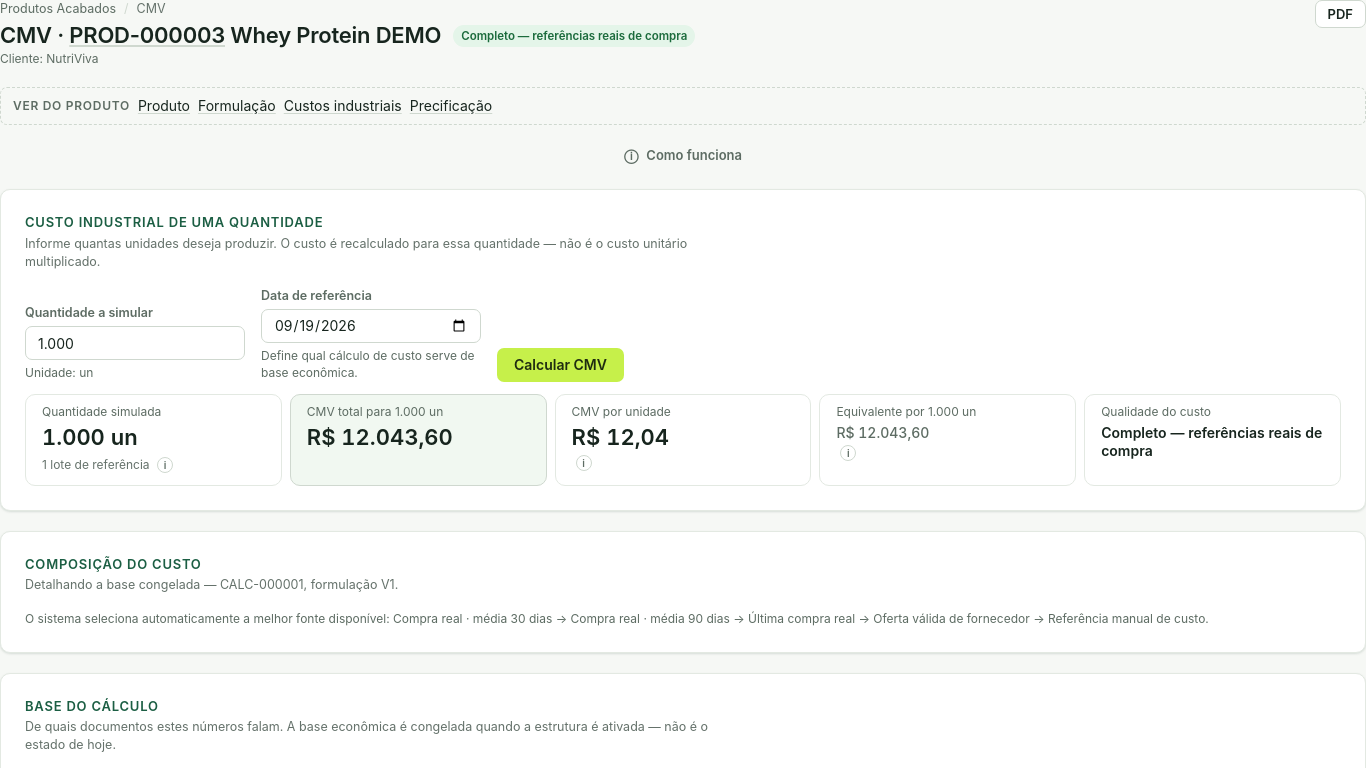
Scenario: Tela de CMV › erro de quantidade não faz a tela parecer outro produto
Check: the link "PROD-000003" is shown, box [69, 22, 225, 48]
Replace the text in the field labelled "Quantidade a simular" with "0": (135, 343) [25, 326, 245, 360]
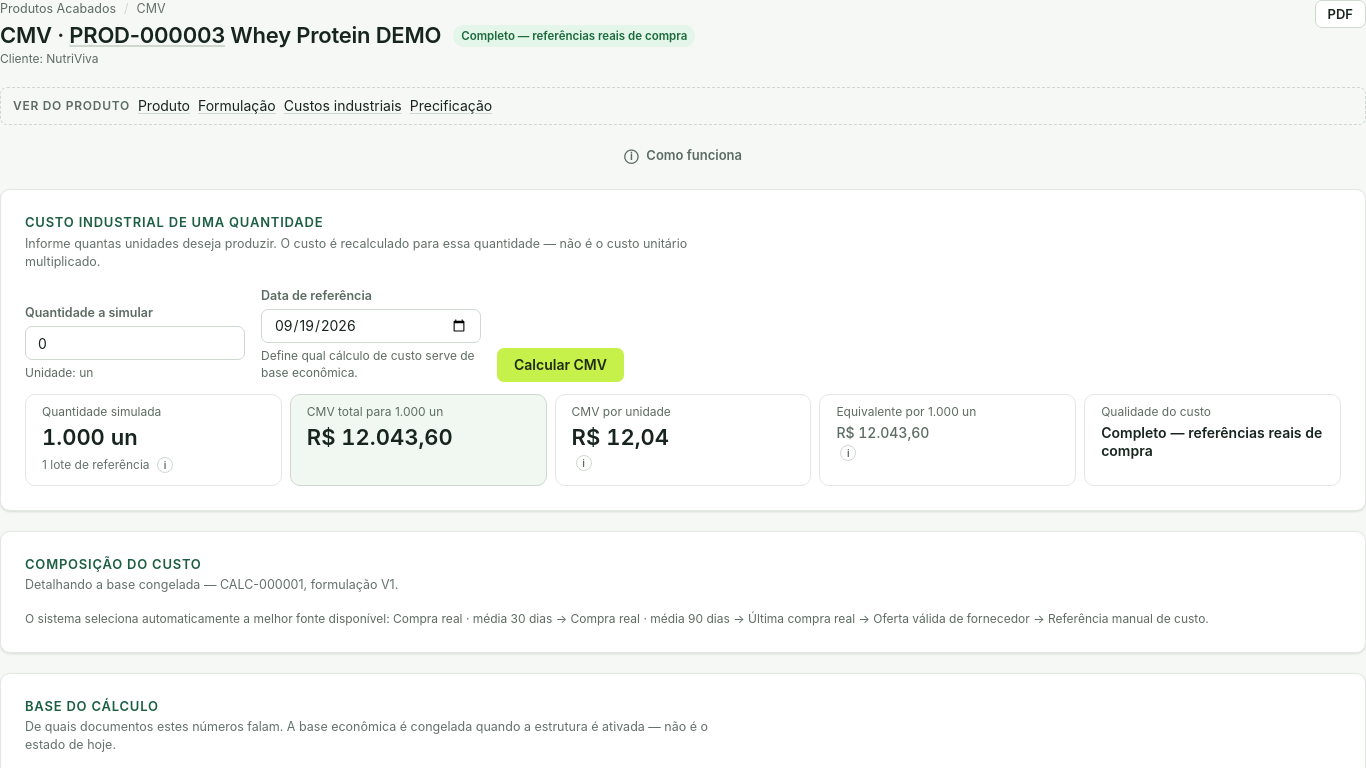
Click the button "Calcular CMV": (560, 365) [497, 348, 624, 382]
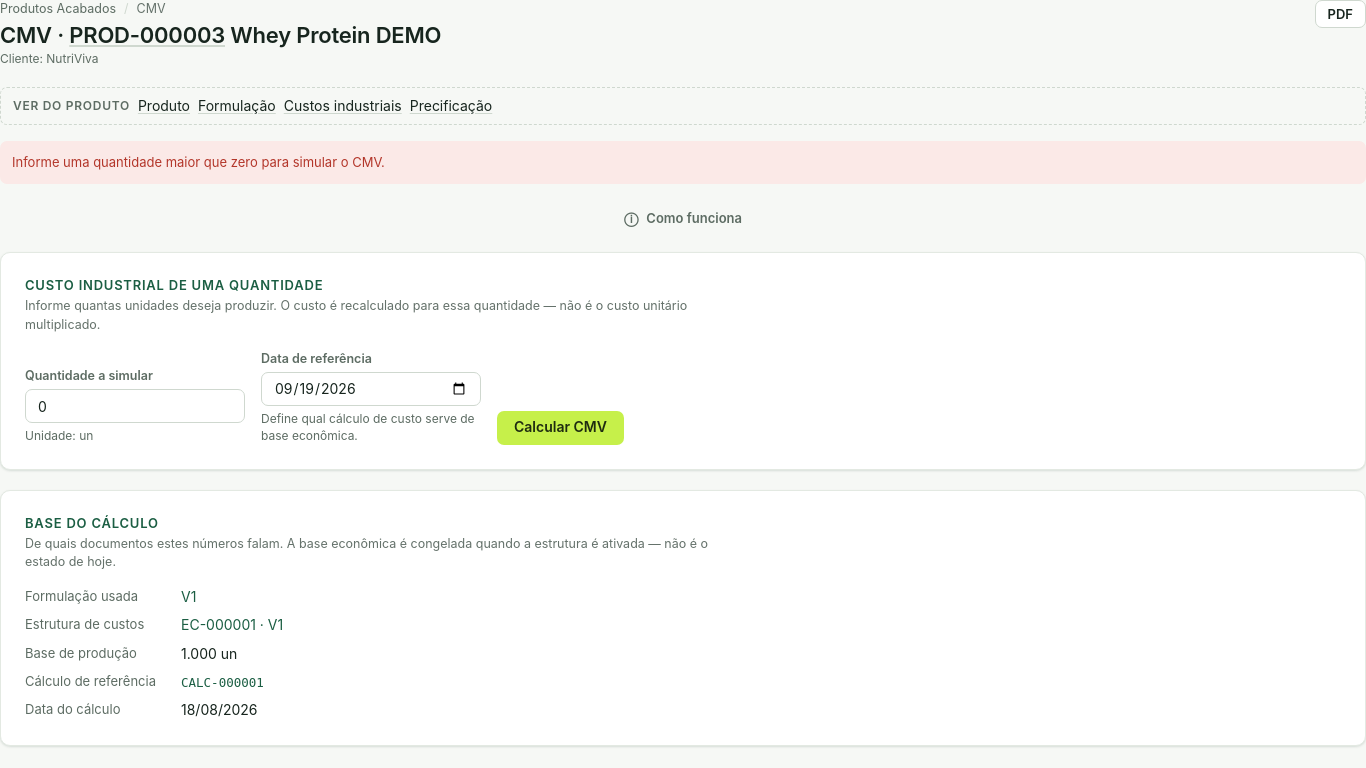
Check: the link "PROD-000003" is shown, box [69, 22, 225, 48]
Check: the text "Informe uma quantidade maior que zero para simular o CMV." is shown, box [0, 141, 1365, 184]
Check: the text "CMV total" is gone
